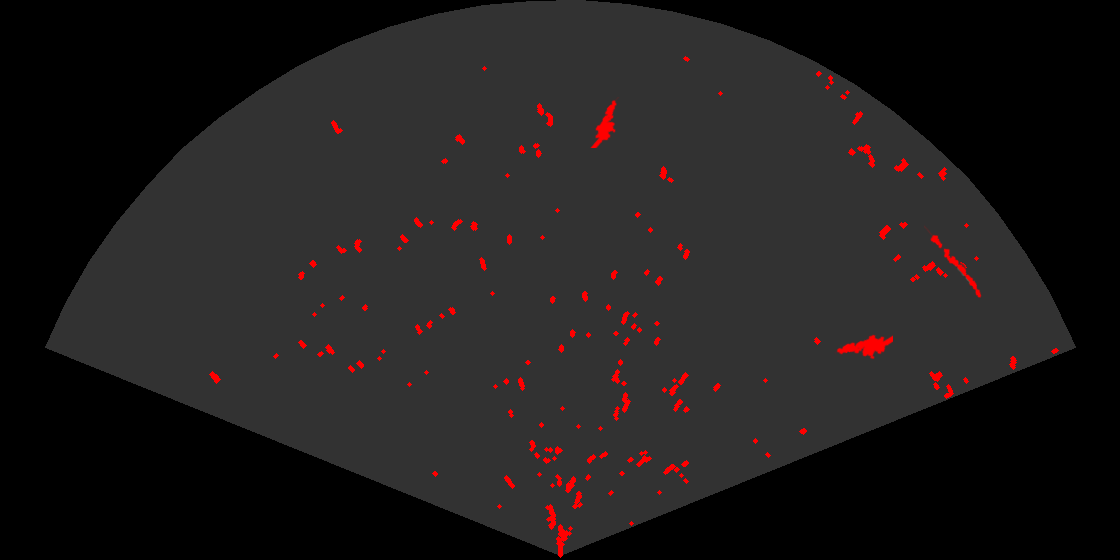chain: (924, 224, 983, 299)
frogman: (833, 333, 893, 361), (589, 97, 621, 148)
